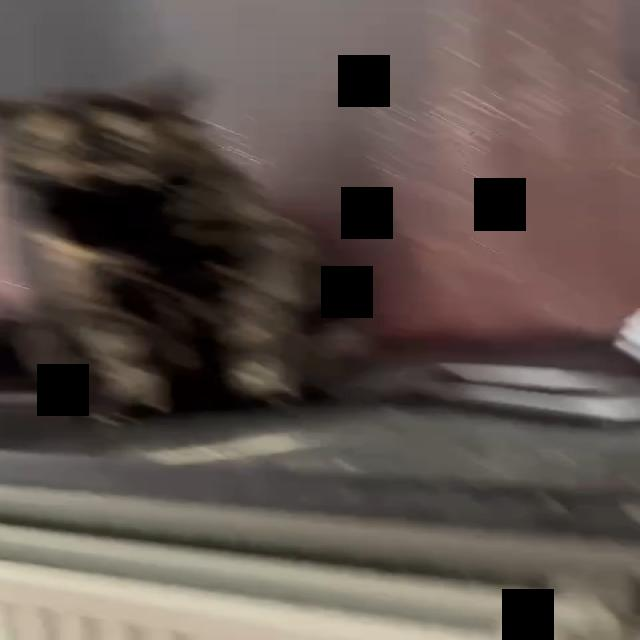authorized: (0, 82, 351, 424)
